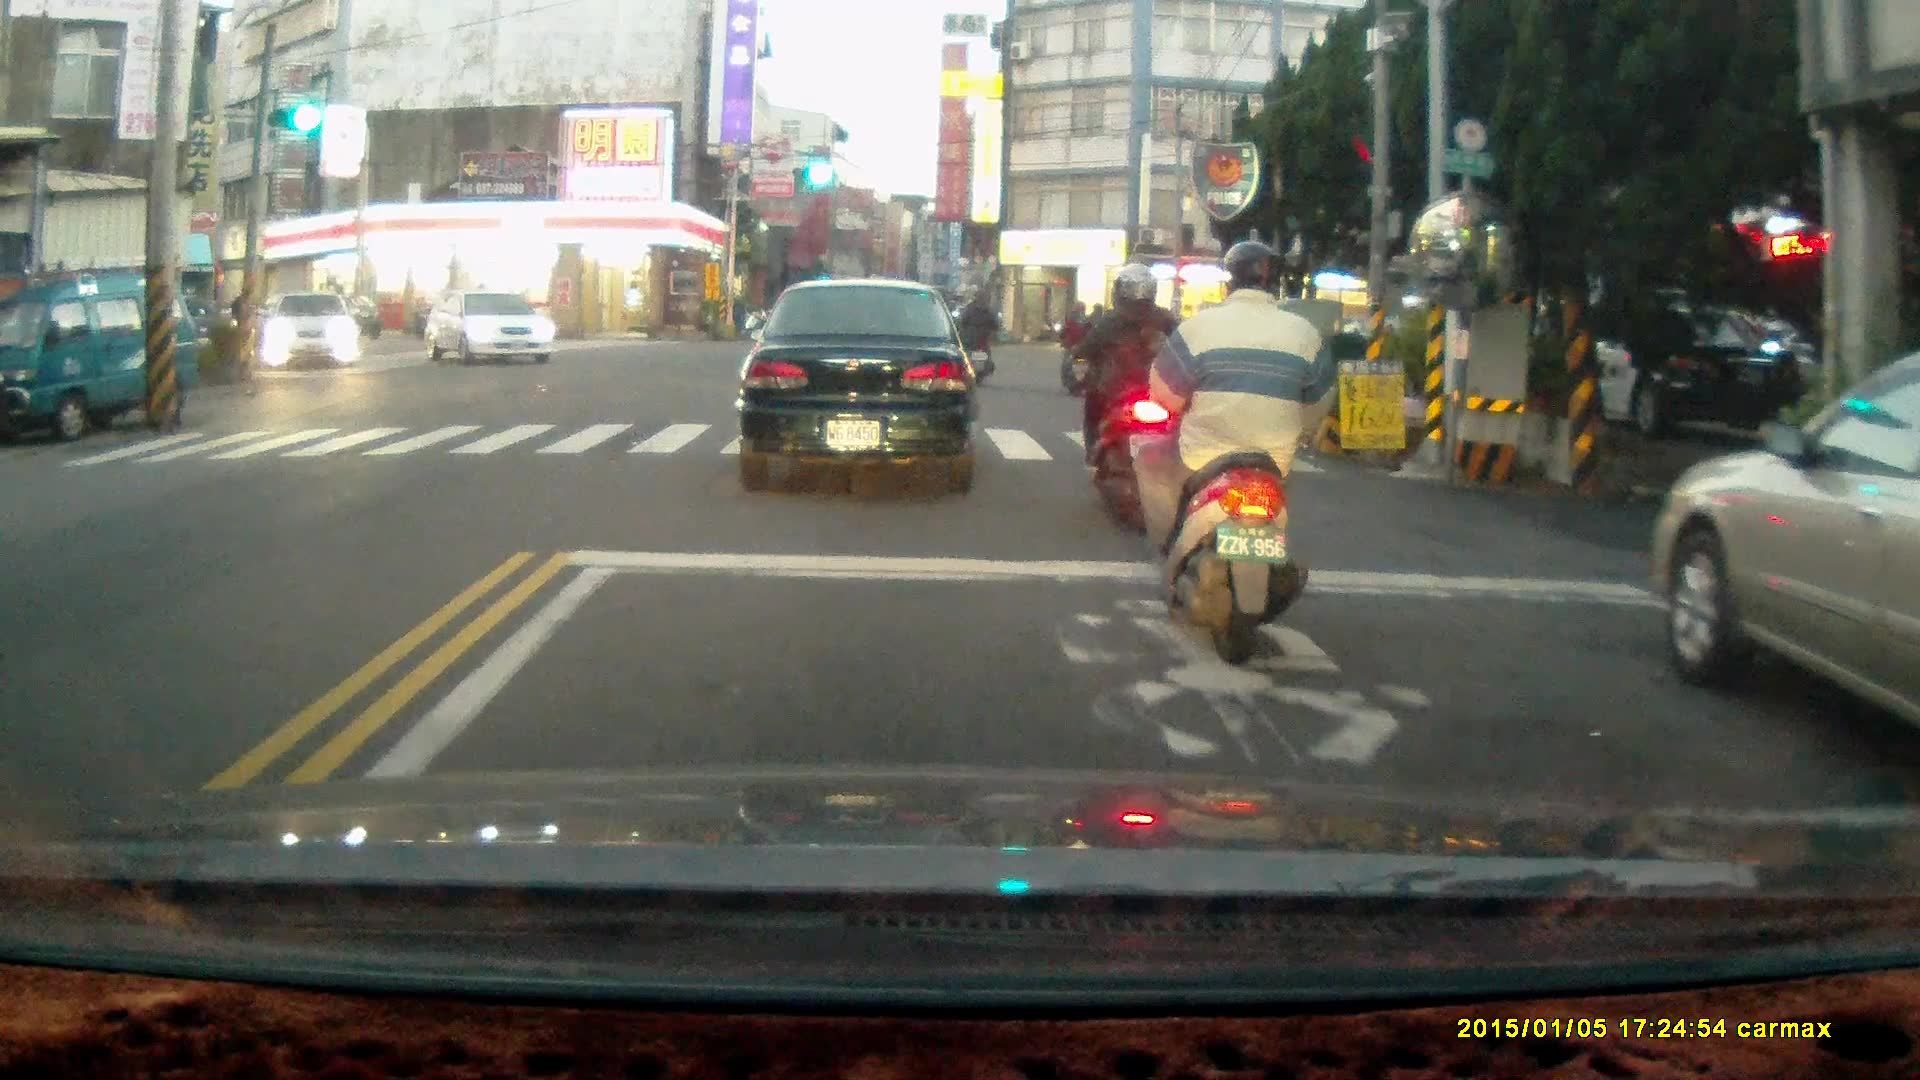rider: (1137, 235, 1341, 660), (1056, 256, 1192, 528), (948, 287, 998, 383), (1051, 297, 1096, 396)
vehicle: (1651, 336, 1920, 801), (1452, 295, 1809, 448), (734, 277, 982, 495), (1, 269, 206, 446), (421, 288, 558, 368), (256, 294, 365, 373)
